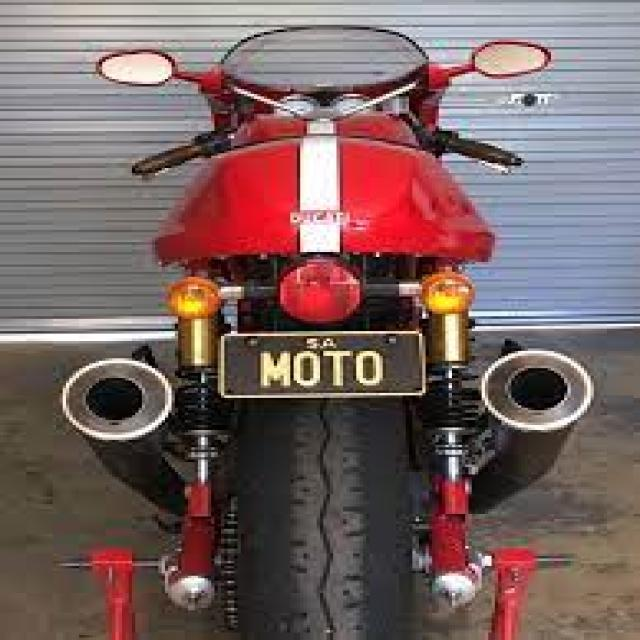license_plate: (214, 326, 429, 400)
